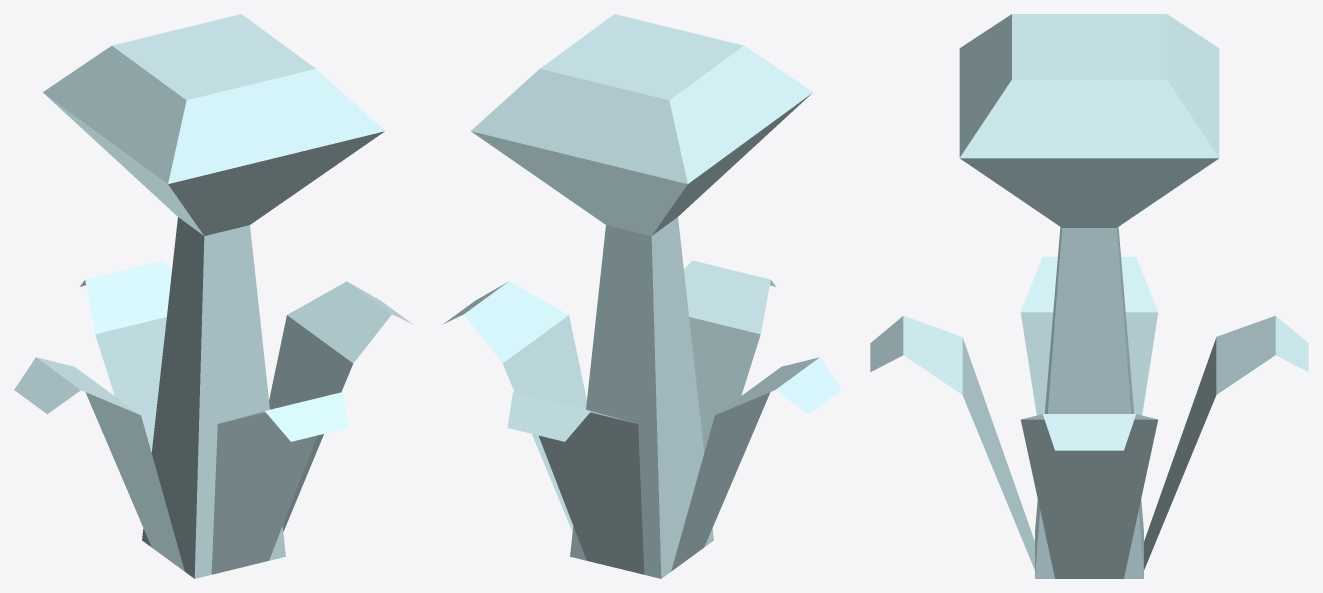
The model's file is flower_blue2.fbx.
The picture shows the model from 3 angles, left to right: view 1: azimuth 30°, elevation 25°; view 2: azimuth 150°, elevation 25°; view 3: azimuth 270°, elevation 25°; orthographic projection. The views are drawn at different scales.
Visible parts, largest first — view 1: flower_blue2; view 2: flower_blue2; view 3: flower_blue2.
Part boxes in pixels (x1,y1,x2,y2): flower_blue2: [14, 14, 412, 578]; flower_blue2: [443, 14, 841, 578]; flower_blue2: [870, 14, 1308, 578].
Size of the model in its own units: 51.43 by 65.88 by 51.43.
